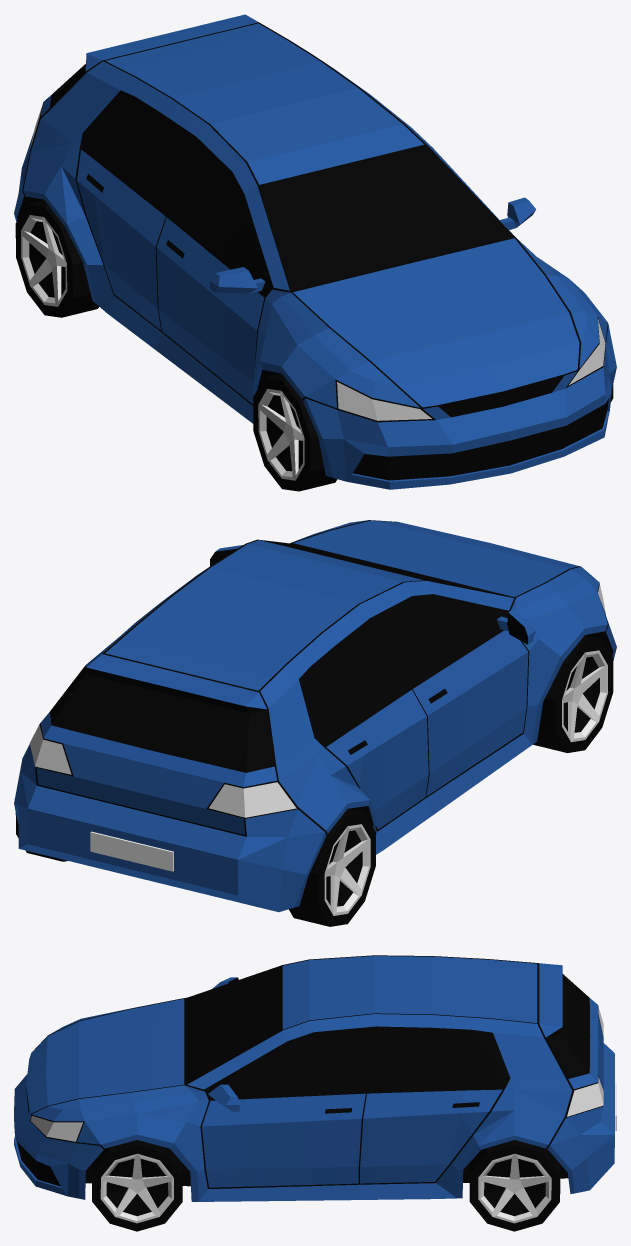
The model's file is Hatchback.glb.
The picture shows the model from 3 angles, top to bottom: view 1: azimuth 30°, elevation 25°; view 2: azimuth 150°, elevation 25°; view 3: azimuth 270°, elevation 25°; orthographic projection. The views are drawn at different scales.
Parts seen in each view (by area): view 1: Hatchback; view 2: Hatchback; view 3: Hatchback.
Boxes of the visible parts, x1,y1,x2,y2 form: Hatchback: (14,14,616,491); Hatchback: (14,520,616,926); Hatchback: (14,955,616,1231).
Size of the model in its own units: 3.19 by 2.27 by 6.58.
